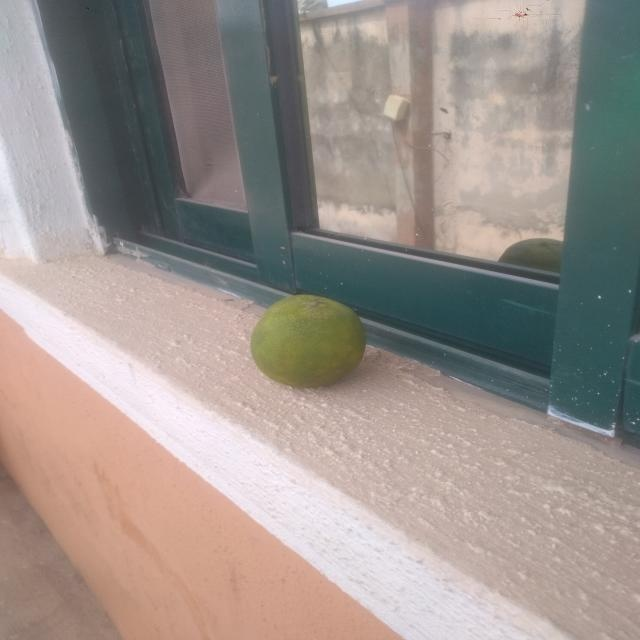agrume: (232, 282, 404, 409)
